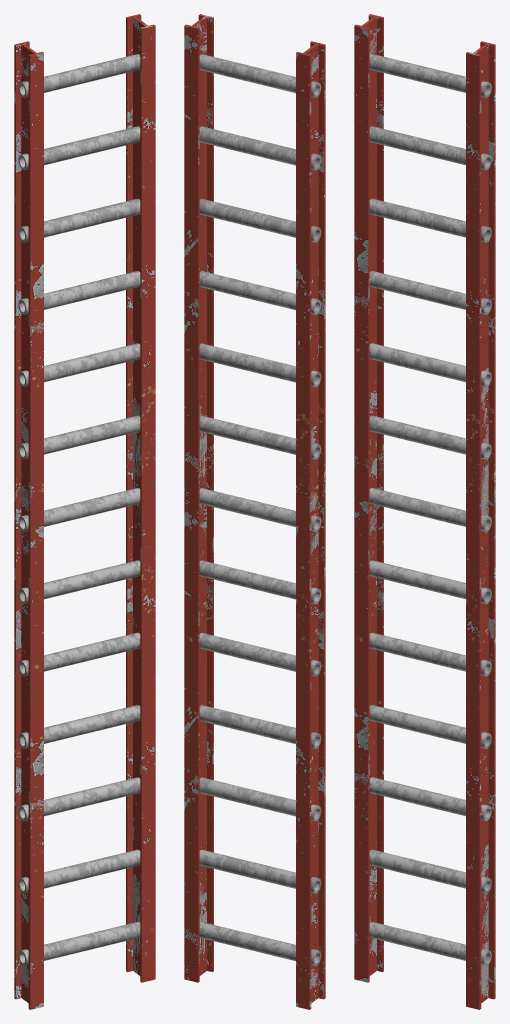
The model's file is ladder.fbx.
The picture shows the model from 3 angles, left to right: view 1: azimuth 30°, elevation 25°; view 2: azimuth 150°, elevation 25°; view 3: azimuth 330°, elevation 25°; orthographic projection.
Visible parts, largest first — view 1: _side_rail, _rung; view 2: _side_rail, _rung; view 3: _side_rail, _rung.
Part boxes in pixels (box(x1,y1,x2,y2)): _side_rail: box(14, 14, 155, 1009); _rung: box(18, 54, 140, 965); _side_rail: box(184, 14, 325, 1009); _rung: box(199, 54, 321, 965); _side_rail: box(354, 14, 495, 1009); _rung: box(369, 54, 491, 965).
Bounding box in the file's own units: 908 × 6593 × 200.
2 materials, 2 textured.
